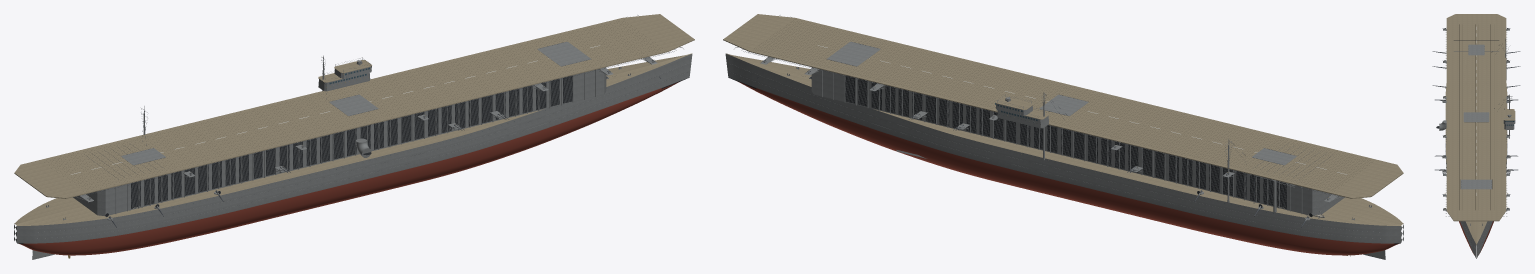
The model's file is demo-akagi1942.glb.
3 renders of one model, left to right at view 1: azimuth 30°, elevation 25°; view 2: azimuth 150°, elevation 25°; view 3: azimuth 270°, elevation 25°, orthographic. The views are drawn at different scales.
Parts seen in each view (by area): view 1: Akagi, rebuilt1938 / Midway1942; view 2: Akagi, rebuilt1938 / Midway1942; view 3: Akagi, rebuilt1938 / Midway1942.
Boxes of the visible parts, x1,y1,x2,y2 form: Akagi, rebuilt1938 / Midway1942: [14, 14, 694, 259]; Akagi, rebuilt1938 / Midway1942: [723, 14, 1403, 259]; Akagi, rebuilt1938 / Midway1942: [1432, 14, 1520, 258].
Size of the model in its own units: 261 by 40.71 by 44.85.
9 materials, 2 textured.
